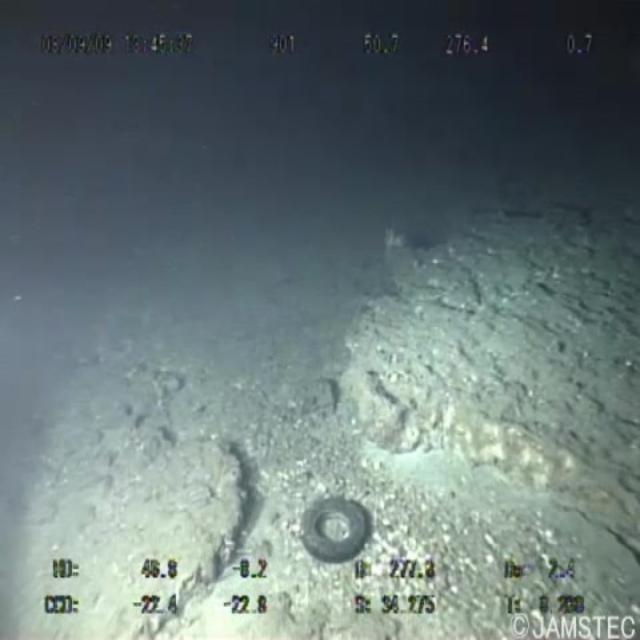Rubber: (289, 482, 385, 573)
